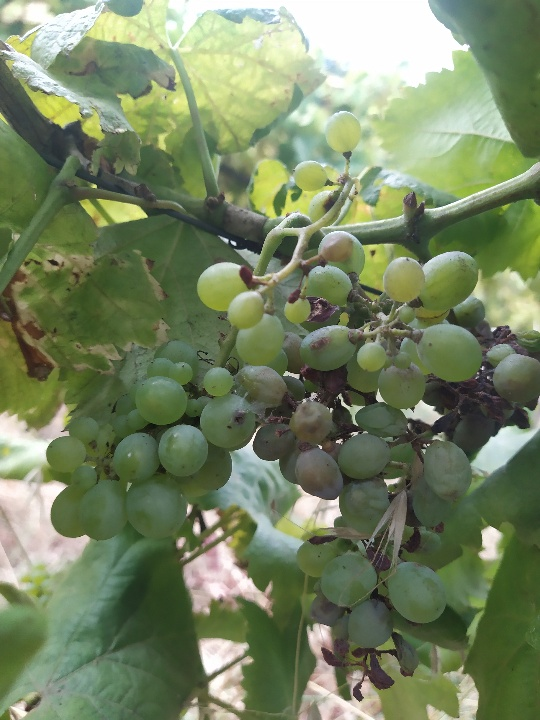grape: (194, 226, 540, 705)
